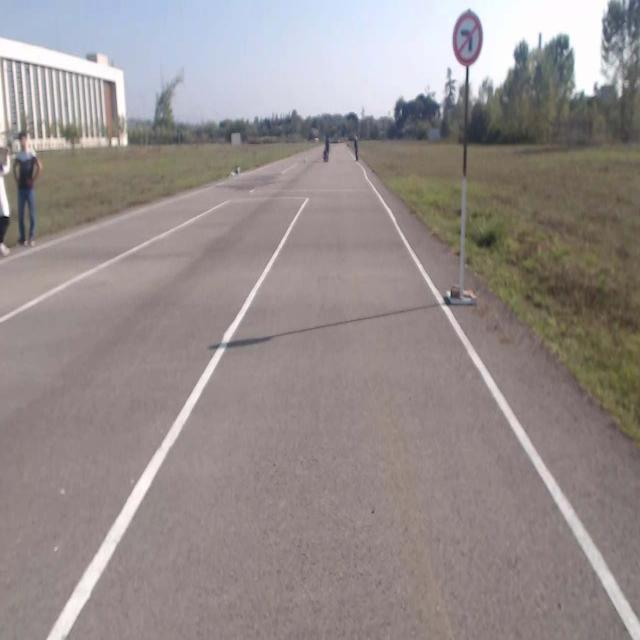soladonulmez: (452, 10, 482, 66)
